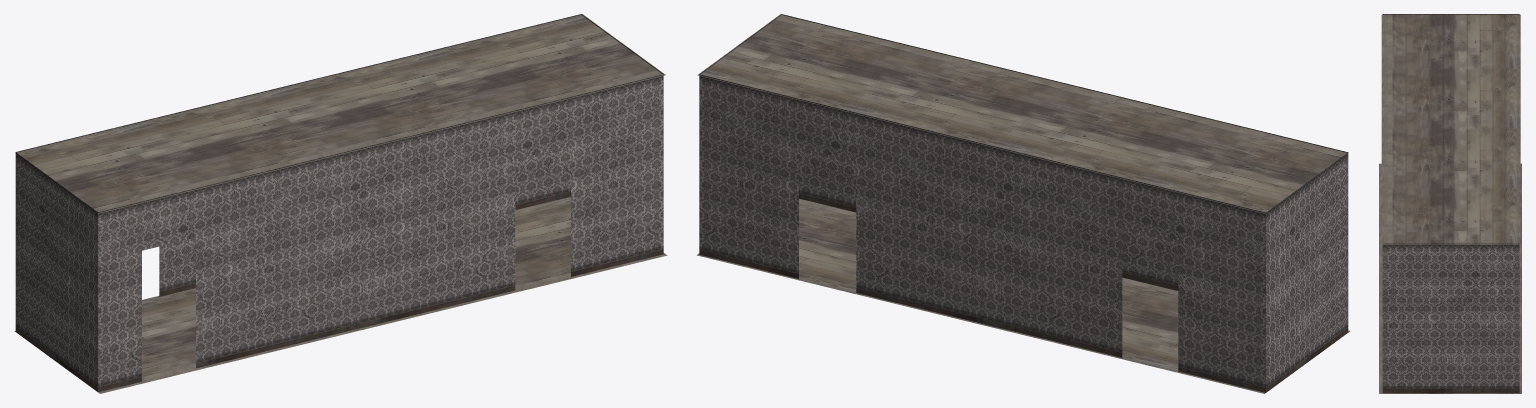
File: mur_couloir2.fbx
3 renders of one model, left to right at view 1: azimuth 30°, elevation 25°; view 2: azimuth 150°, elevation 25°; view 3: azimuth 270°, elevation 25°, orthographic. The views are drawn at different scales.
Parts seen in each view (by area): view 1: couloir2walls, couloir2roof, couloir2_floor; view 2: couloir2walls, couloir2roof, couloir2_floor; view 3: couloir2roof, couloir2walls, couloir2_floor.
Boxes of the visible parts, x1=… form: couloir2walls: x1=15, y1=14, x2=663, y2=392; couloir2roof: x1=17, y1=14, x2=665, y2=213; couloir2_floor: x1=14, y1=196, x2=667, y2=393; couloir2walls: x1=699, y1=14, x2=1348, y2=392; couloir2roof: x1=697, y1=14, x2=1348, y2=213; couloir2_floor: x1=697, y1=198, x2=1349, y2=393; couloir2roof: x1=1381, y1=14, x2=1520, y2=244; couloir2walls: x1=1382, y1=14, x2=1519, y2=393; couloir2_floor: x1=1379, y1=163, x2=1521, y2=393.
Size of the model in its own units: 1017 by 308 by 267.
